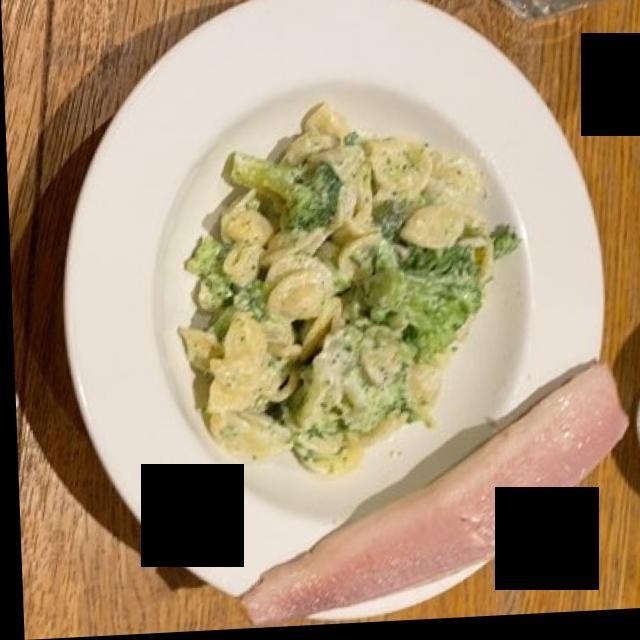broccoli: (185, 148, 522, 372)
pasta: (184, 107, 477, 473)
